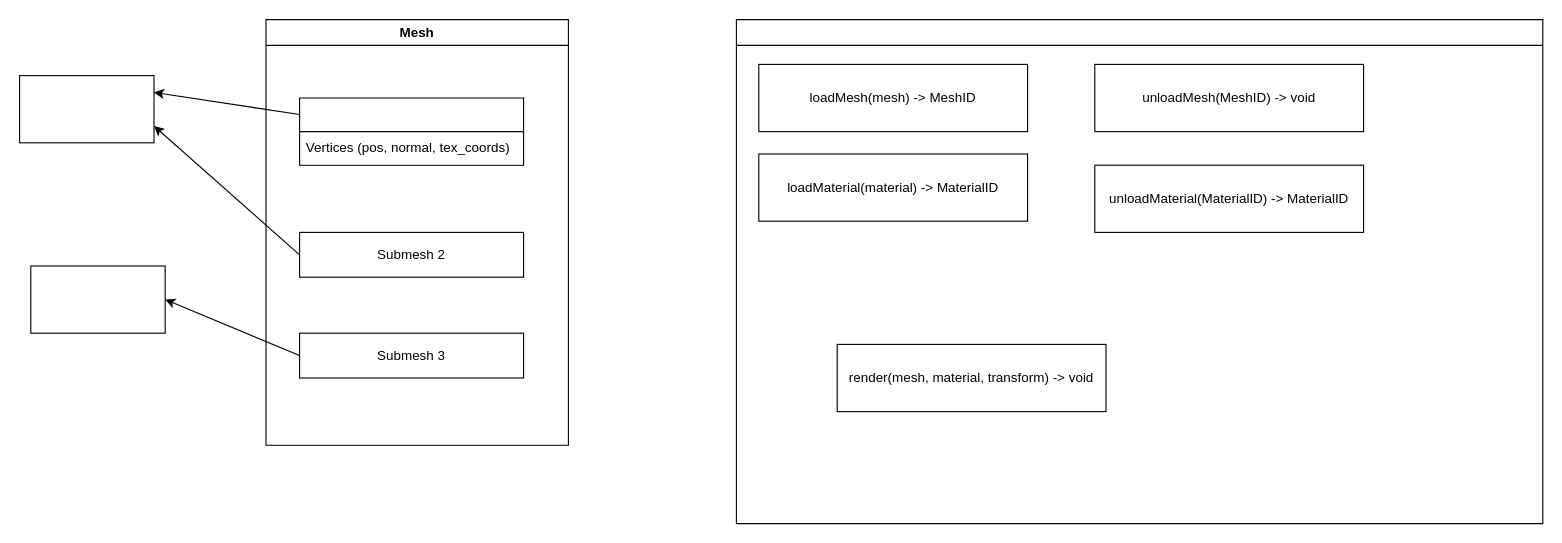
This 1562x543 diagram has some shape labels left out. The box of each missing label's shape, as (x1, y1, x2, y2) in pixels:
MaterialResource1: (18, 74, 154, 143)
MaterialResource2: (30, 265, 165, 333)
Renderer: (735, 18, 1543, 524)
Submesh 1: (298, 97, 524, 165)
